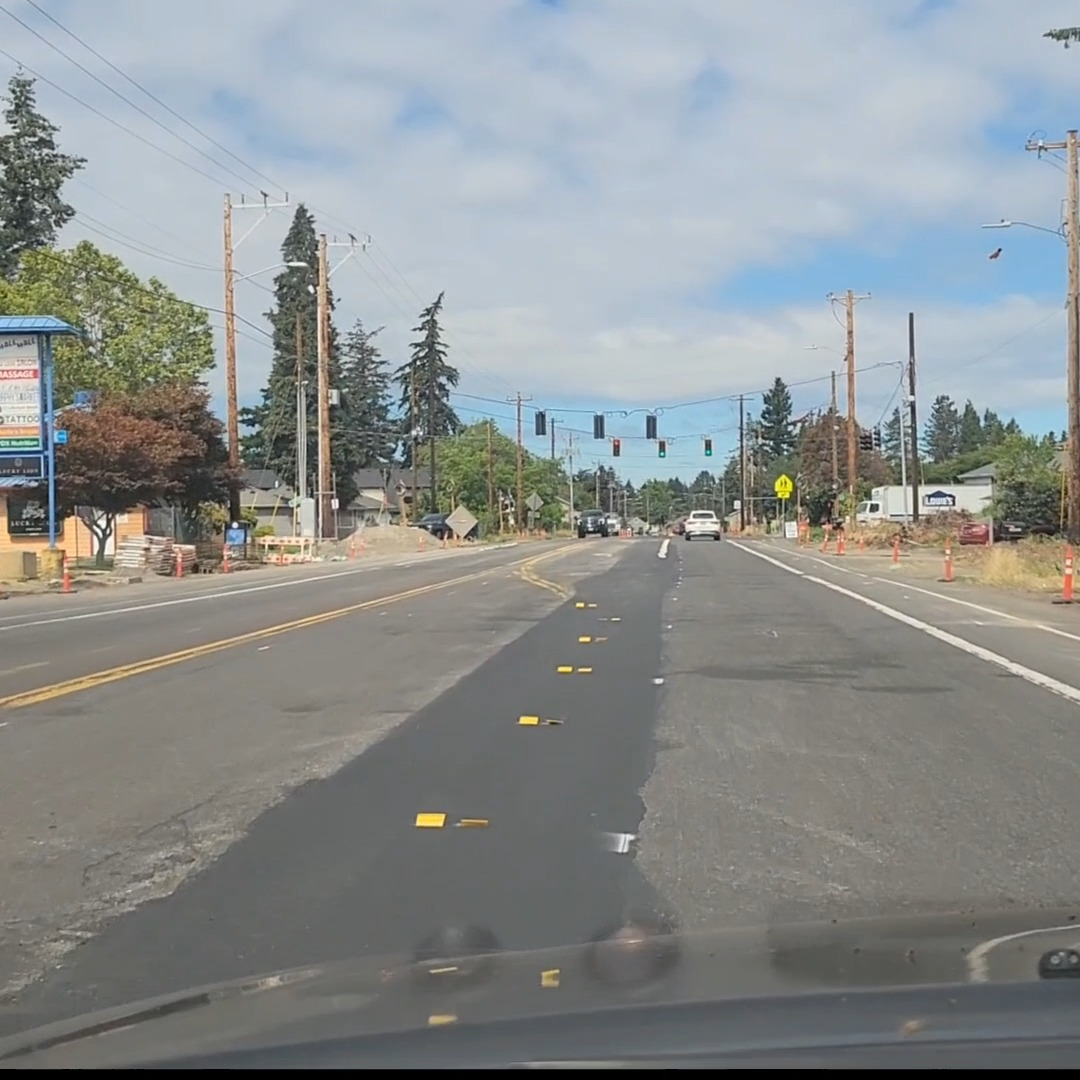car: (953, 517, 1050, 544), (410, 511, 478, 540), (681, 510, 721, 541), (577, 509, 617, 537), (667, 517, 687, 535)
crosswalk-sign: (774, 473, 792, 498)
delineator: (938, 537, 955, 582), (1060, 547, 1074, 598), (61, 557, 72, 593), (890, 536, 901, 564), (221, 546, 231, 573), (836, 529, 845, 555), (819, 528, 829, 551), (984, 523, 993, 547), (348, 538, 358, 558), (797, 525, 807, 544), (856, 531, 864, 549), (417, 535, 426, 548)
